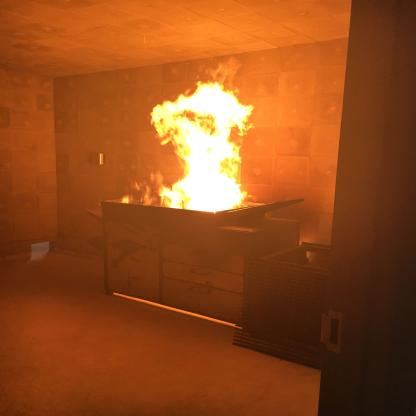fire: (151, 78, 260, 215)
